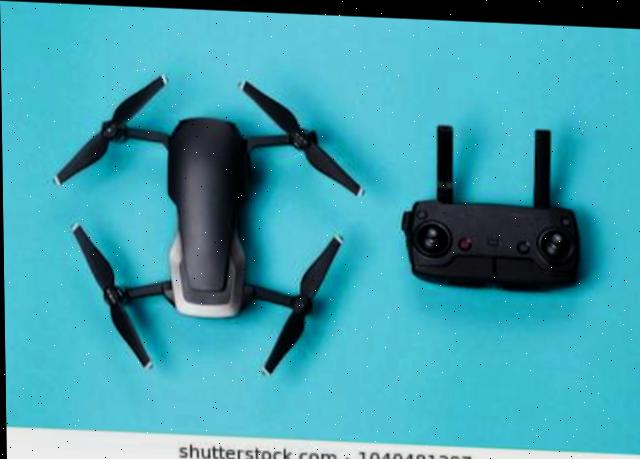drone: (33, 46, 388, 389)
